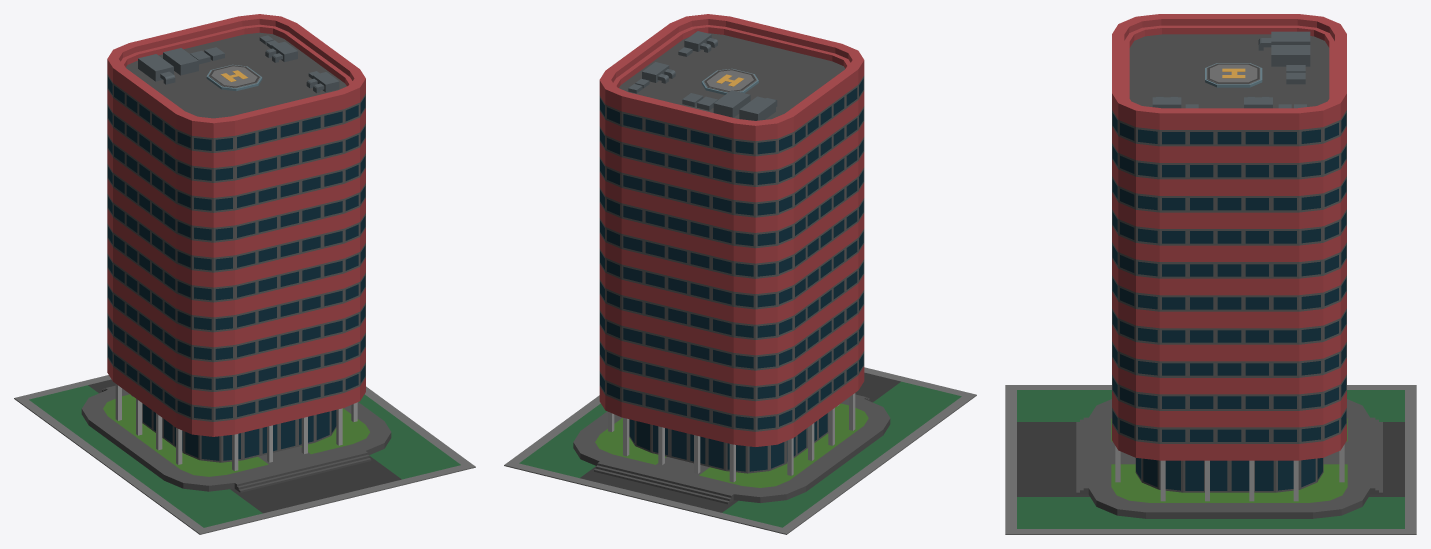
The model's file is tower-b.glb.
The picture shows the model from 3 angles, left to right: view 1: azimuth 30°, elevation 25°; view 2: azimuth 150°, elevation 25°; view 3: azimuth 270°, elevation 25°; orthographic projection. The views are drawn at different scales.
Visible parts, largest first — view 1: skyscraper_b; view 2: skyscraper_b; view 3: skyscraper_b.
Part boxes in pixels (x1,y1,x2,y2): skyscraper_b: (14,14,475,534); skyscraper_b: (504,14,976,534); skyscraper_b: (1005,14,1416,534).
Bounding box in the file's own units: 30 × 37.26 × 35.
Materials: 1 (1 with a texture image).
